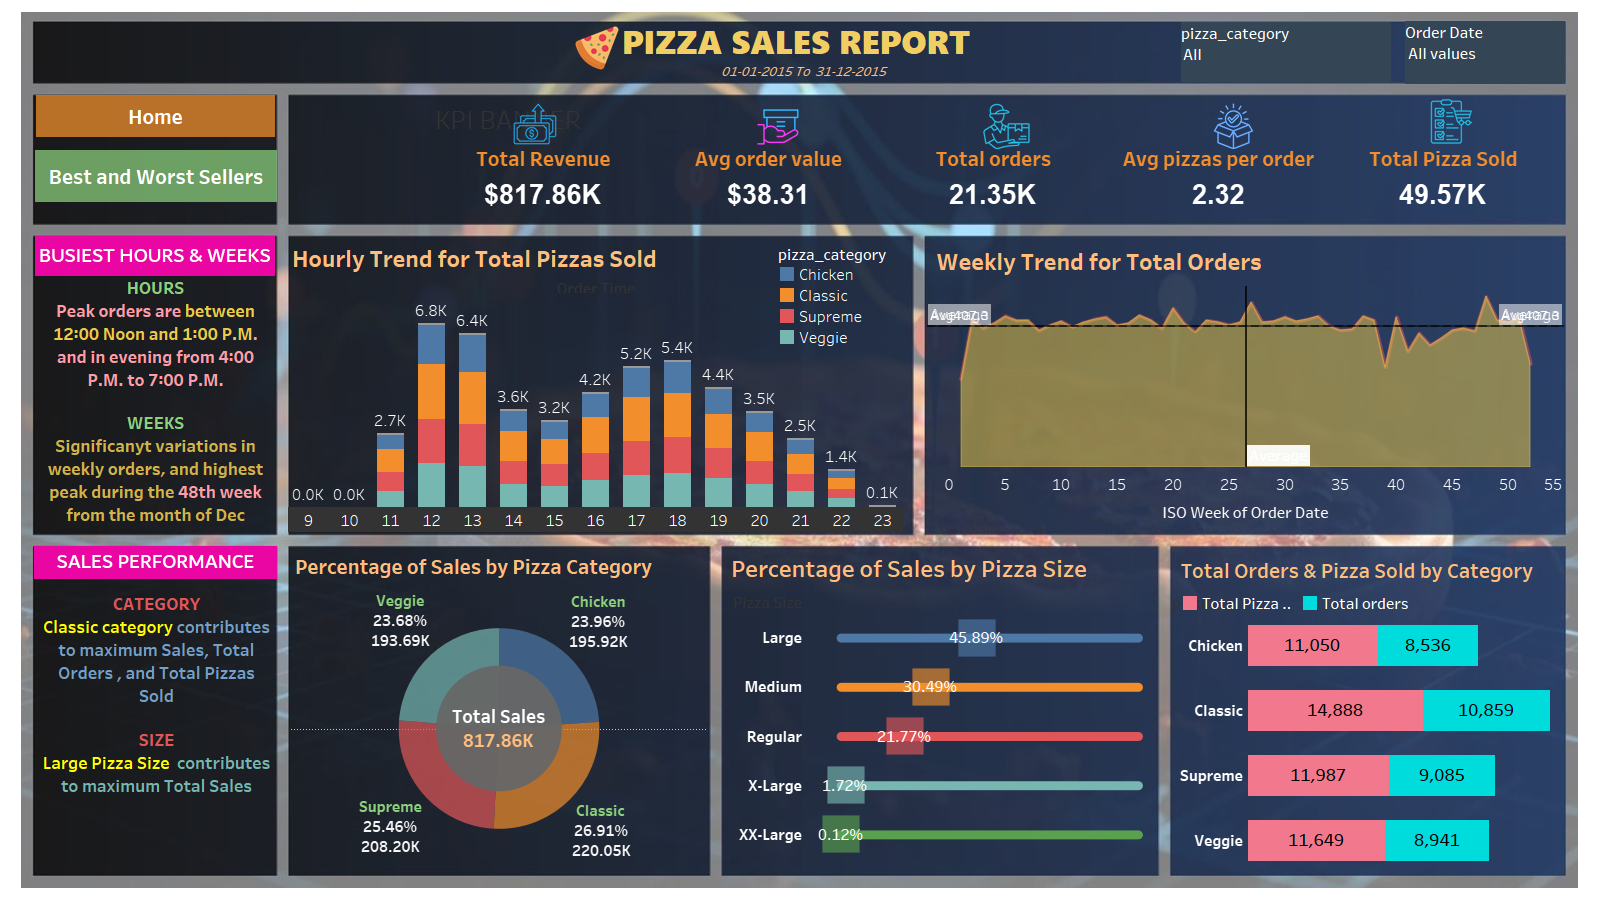

Layout of this report page (visuals, bound fields, positions):
{"tool":"tableau","page":{"name":"Dashboard 1","canvas":[1600,900],"ordinal":0},"visuals":[{"type":"image","param":"C:/Users/BOSS/Downloads/Pizza Tableau 1.jpg","box":[8,8,1584,884]},{"type":"text","box":[29,19,1534,42]},{"type":"filter","title":"Hourly trend of pizzas sold","param":"[federated.1a7ovvx09pt5z21415h4e0p9fsvf].[none:order_date:qk]","box":[1405,21,160,63]},{"type":"filter","title":"Hourly trend of pizzas sold","param":"[federated.1a7ovvx09pt5z21415h4e0p9fsvf].[none:pizza_category:nk]","box":[1181,22,210,60]},{"type":"image","param":"C:/Users/BOSS/Downloads/pizza-slice.png","box":[568,25,57,45]},{"type":"worksheet","title":"Date Range","mark":"Automatic","box":[620,53,371,36]},{"type":"dashboard-object","box":[36,95,239,42]},{"type":"worksheet","title":"KPI BANNER","mark":"Automatic","box":[431,96,1136,318]},{"type":"image","param":"C:/Users/BOSS/Downloads/order-delivery (1).png","box":[1428,98,46,47]},{"type":"image","param":"C:/Users/BOSS/Downloads/profit-growth.png","box":[507,99,56,49]},{"type":"image","param":"C:/Users/BOSS/Downloads/delivery-man.png","box":[982,102,48,49]},{"type":"image","param":"C:/Users/BOSS/Downloads/shipping-box.png","box":[753,103,49,47]},{"type":"image","param":"C:/Users/BOSS/Downloads/order (1).png","box":[1208,103,51,46]},{"type":"dashboard-object","box":[35,150,242,52]},{"type":"text","box":[35,236,240,40]},{"type":"worksheet","title":"Hourly trend of pizzas sold","mark":"Bar","rows":["Calculation_1378101540626505731","Calculation_1378101540626505731"],"cols":["order_time"],"box":[288,236,615,296]},{"type":"worksheet","title":"Weekly trend for total orders","mark":"Area","rows":["Calculation_1378101540626079745","Calculation_1378101540626079745"],"cols":["order_date"],"box":[927,239,637,291]},{"type":"legend","title":"Hourly trend of pizzas sold","param":"[federated.1a7ovvx09pt5z21415h4e0p9fsvf].[none:pizza_category:nk]","box":[777,242,131,109]},{"type":"text","box":[36,267,239,268]},{"type":"text","box":[34,546,243,33]},{"type":"worksheet","title":"% of sales by pizza category","mark":"Pie","rows":["Calculation_1378101540653817862","Calculation_1378101540653817862"],"box":[291,546,417,324]},{"type":"worksheet","title":"Percentage of Sales by Pizza Size","mark":"Line","rows":["pizza_size"],"box":[727,546,431,313]},{"type":"worksheet","title":"Total Orders & Pizza Sold by Category","mark":"Automatic","rows":["pizza_category"],"box":[1168,550,397,323]},{"type":"text","box":[37,552,239,290]},{"type":"legend","title":"Total Orders & Pizza Sold by Category","param":"[federated.1a7ovvx09pt5z21415h4e0p9fsvf].[:Measure Names]","box":[1180,593,344,32]}]}

Visuals, with their boxes in screenshot pixels (x1, y1, x2, y2), scaled from the page's 1600x900 canvas onto the 1600x900 screenshot:
image: bbox=[8, 8, 1592, 892]
text: bbox=[29, 19, 1563, 61]
"Hourly trend of pizzas sold" filter: bbox=[1405, 21, 1565, 84]
"Hourly trend of pizzas sold" filter: bbox=[1181, 22, 1391, 82]
image: bbox=[568, 25, 625, 70]
"Date Range" worksheet: bbox=[620, 53, 991, 89]
dashboard-object: bbox=[36, 95, 275, 137]
"KPI BANNER" worksheet: bbox=[431, 96, 1567, 414]
image: bbox=[1428, 98, 1474, 145]
image: bbox=[507, 99, 563, 148]
image: bbox=[982, 102, 1030, 151]
image: bbox=[753, 103, 802, 150]
image: bbox=[1208, 103, 1259, 149]
dashboard-object: bbox=[35, 150, 277, 202]
text: bbox=[35, 236, 275, 276]
"Hourly trend of pizzas sold" worksheet (Bar marks): bbox=[288, 236, 903, 532]
"Weekly trend for total orders" worksheet (Area marks): bbox=[927, 239, 1564, 530]
"Hourly trend of pizzas sold" legend: bbox=[777, 242, 908, 351]
text: bbox=[36, 267, 275, 535]
text: bbox=[34, 546, 277, 579]
"% of sales by pizza category" worksheet (Pie marks): bbox=[291, 546, 708, 870]
"Percentage of Sales by Pizza Size" worksheet (Line marks): bbox=[727, 546, 1158, 859]
"Total Orders & Pizza Sold by Category" worksheet: bbox=[1168, 550, 1565, 873]
text: bbox=[37, 552, 276, 842]
"Total Orders & Pizza Sold by Category" legend: bbox=[1180, 593, 1524, 625]
